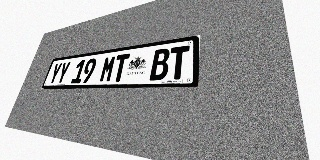1: (71, 59, 87, 83)
9: (80, 58, 98, 83)
B: (149, 48, 170, 80)
M: (99, 55, 117, 82)
T: (168, 45, 190, 80), (111, 53, 130, 82)
Y: (56, 61, 71, 84), (48, 63, 63, 84)
